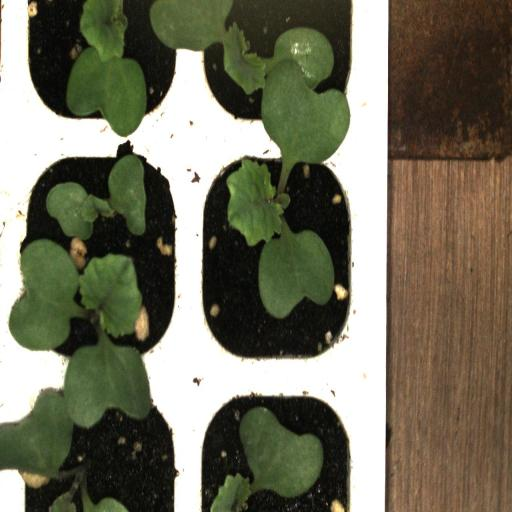Folha: (46, 153, 147, 240)
Germinacao: (188, 135, 367, 380), (14, 137, 189, 377), (191, 0, 370, 137), (17, 0, 192, 129), (194, 380, 365, 512)
